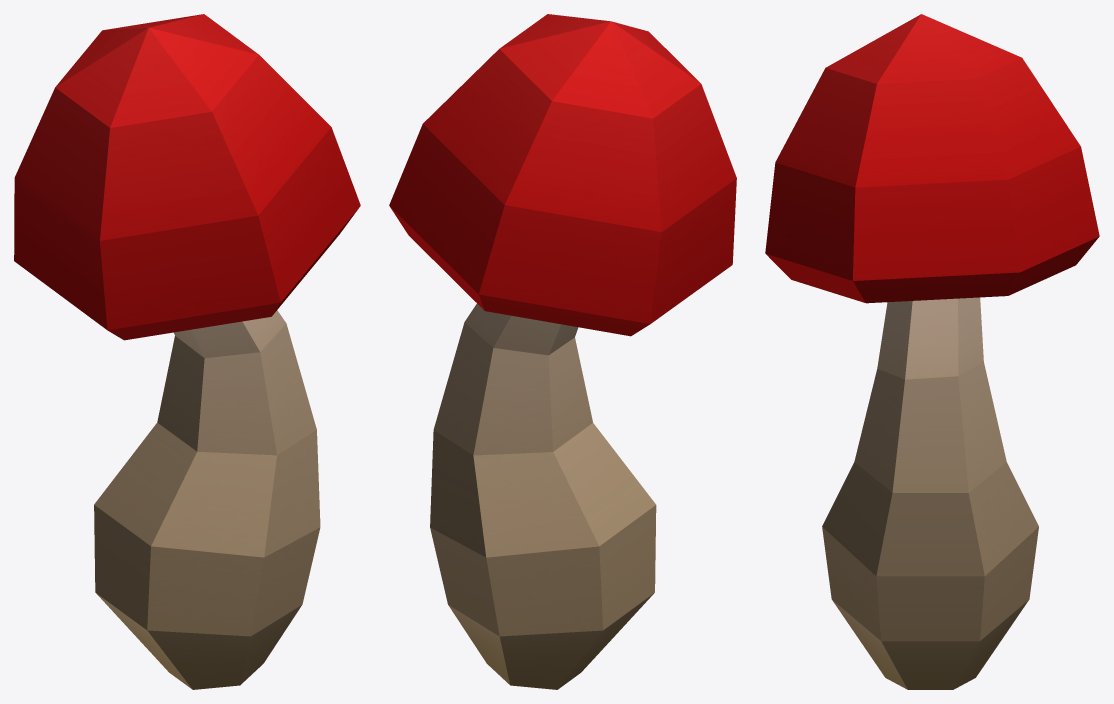
Rendered from Mushroom_Red_01.fbx.
3 views of the same model, side by side, from view 1: azimuth 30°, elevation 25°; view 2: azimuth 150°, elevation 25°; view 3: azimuth 270°, elevation 25° (orthographic). The views are drawn at different scales.
Parts seen in each view (by area): view 1: Mushroom_Red_01; view 2: Mushroom_Red_01; view 3: Mushroom_Red_01.
Part boxes in pixels (<box>): Mushroom_Red_01: <box>14,14,360,689</box>; Mushroom_Red_01: <box>389,14,736,689</box>; Mushroom_Red_01: <box>765,14,1099,689</box>.
Size of the model in its own units: 16.05 by 38.04 by 18.17.
